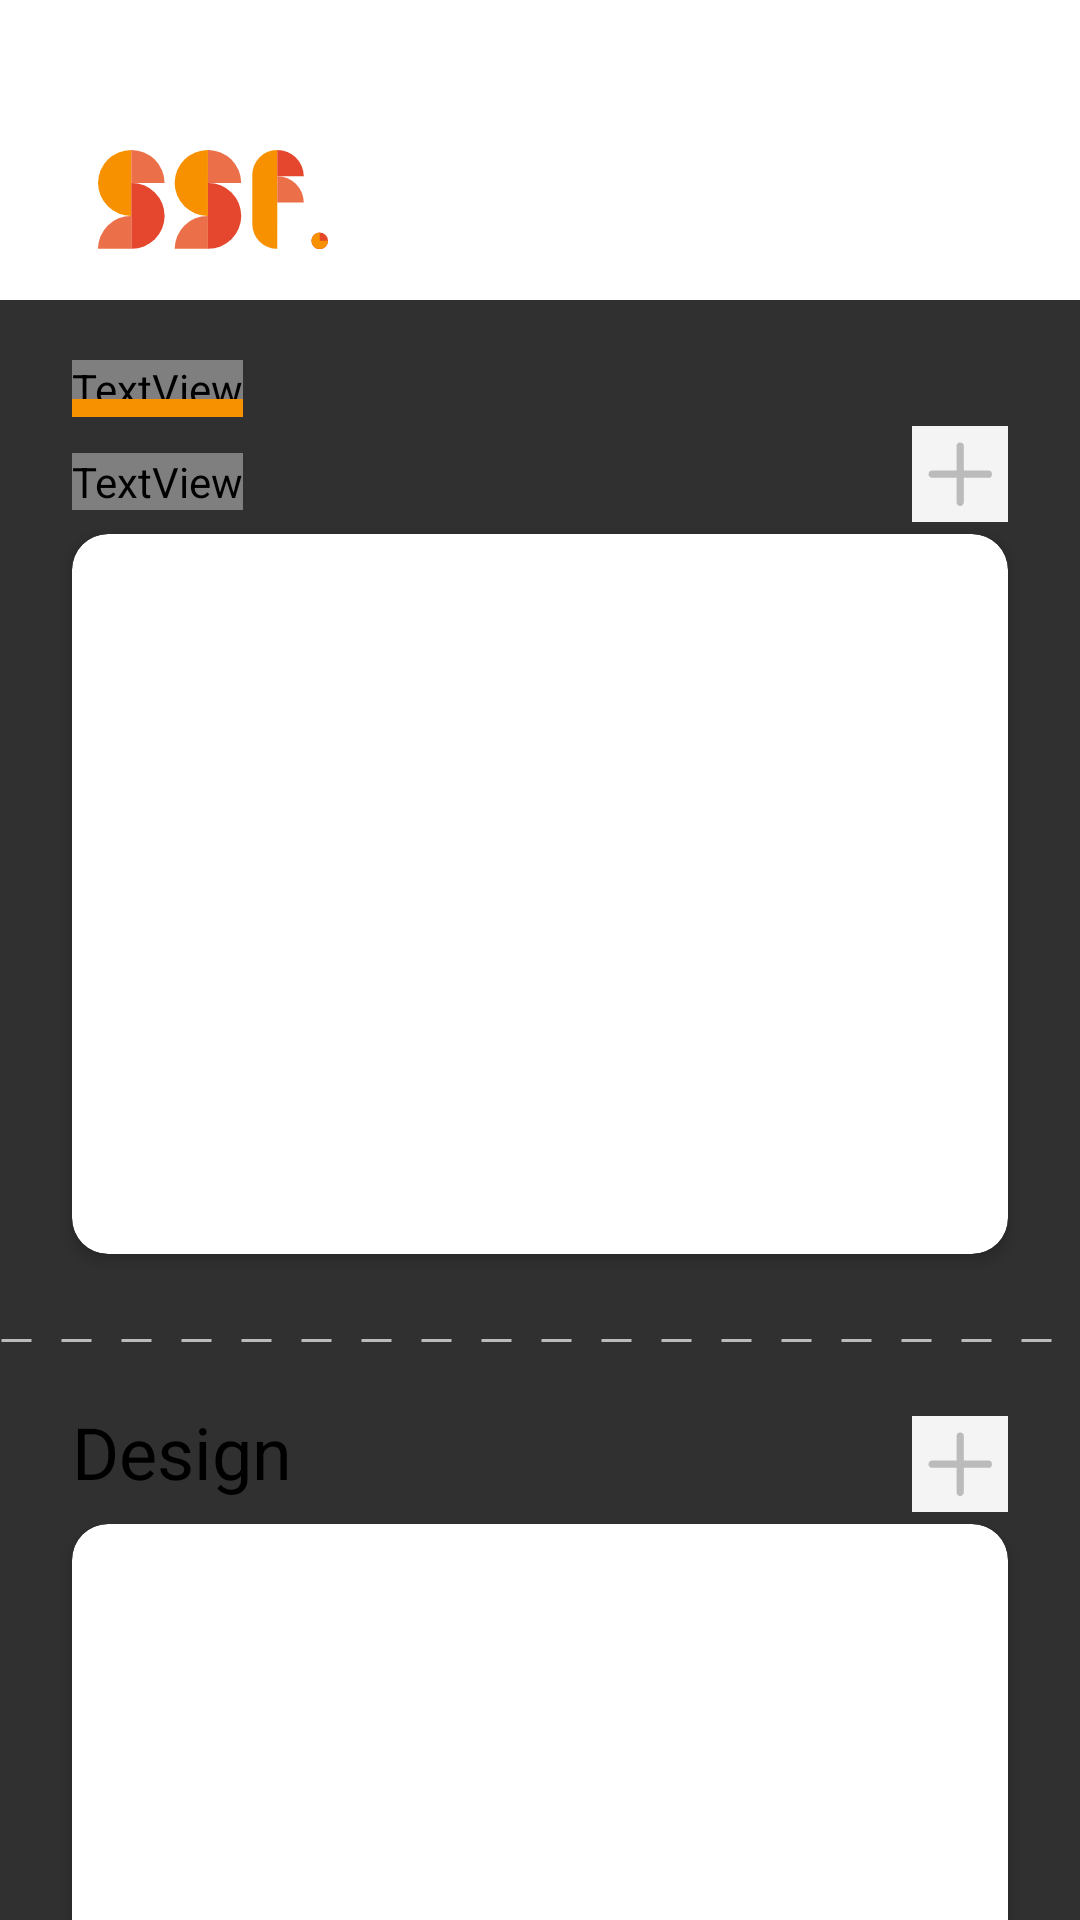

Icons on this 1080px×1920px Android screen, each with its box as Rect(x1, y1, x2, y2):
add: Rect(912, 426, 1008, 522), Rect(912, 1416, 1008, 1512)
